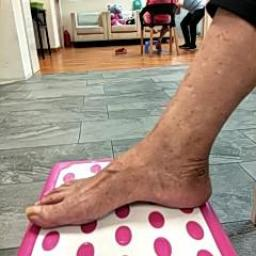Medial View -Right Foot-: (14, 120, 232, 238)
